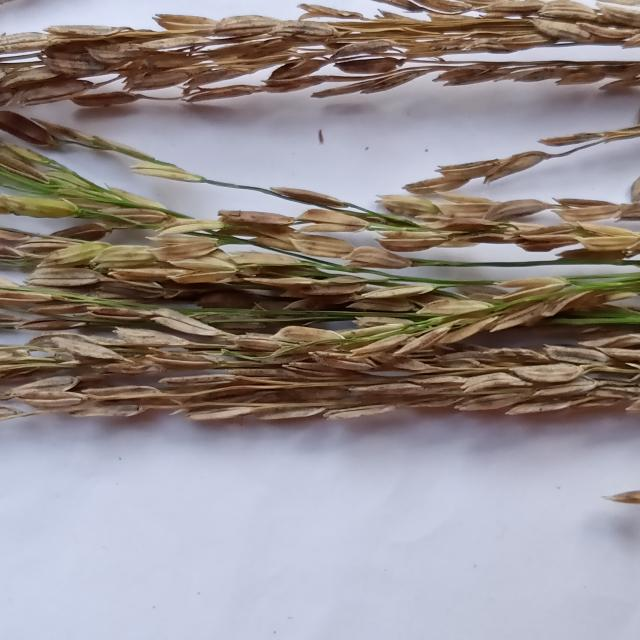Neck_Blast: (0, 103, 640, 334), (0, 265, 640, 434), (0, 0, 640, 108)
